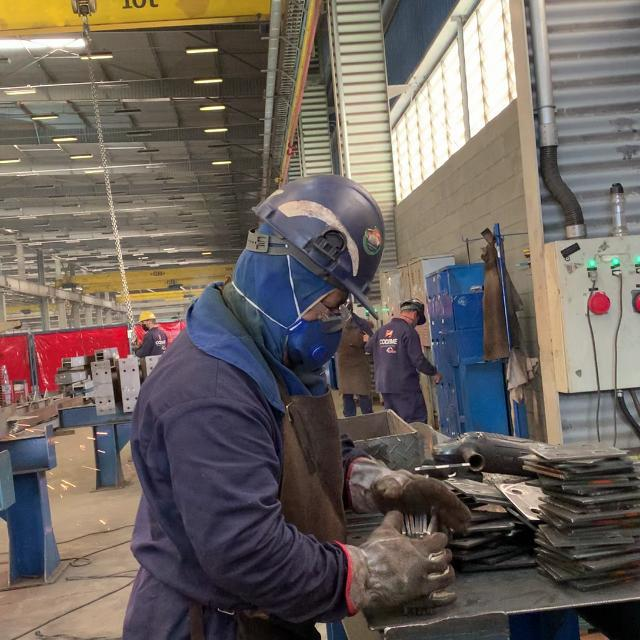eye-glass: (287, 253, 354, 324)
face-shield: (334, 508, 459, 611), (345, 453, 477, 533)
glove: (248, 175, 417, 319), (136, 310, 156, 323)
helmet: (285, 321, 341, 370), (139, 322, 145, 327)
mask: (127, 173, 482, 640), (134, 310, 168, 357)
